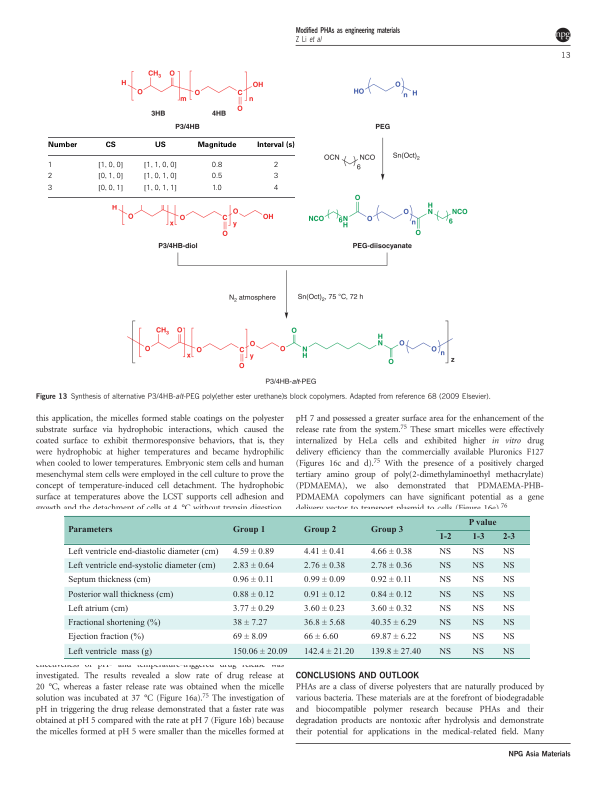borderless: (63, 514, 530, 658), (47, 135, 295, 197)
cell: (66, 547, 219, 557), (66, 561, 216, 571), (66, 590, 174, 600), (66, 618, 161, 628), (66, 575, 151, 586), (66, 647, 152, 657), (66, 632, 144, 643), (66, 604, 128, 614), (232, 647, 288, 657), (370, 632, 417, 643), (303, 647, 354, 657), (370, 647, 421, 657), (370, 618, 417, 628), (232, 575, 274, 586), (303, 575, 345, 586), (370, 575, 412, 586), (67, 526, 113, 536), (232, 547, 274, 557), (303, 547, 345, 557), (370, 547, 412, 557), (232, 561, 274, 571), (303, 561, 345, 571), (370, 561, 412, 571), (232, 590, 274, 600), (303, 590, 345, 600), (370, 590, 412, 600), (232, 604, 274, 614), (303, 604, 345, 614), (370, 604, 412, 614), (303, 618, 345, 628), (232, 632, 268, 643), (303, 632, 339, 643), (196, 141, 237, 150), (232, 618, 268, 628), (256, 141, 295, 150), (369, 526, 404, 536), (232, 526, 266, 536), (303, 526, 337, 536), (142, 160, 177, 169), (142, 183, 177, 192), (467, 519, 497, 529), (46, 141, 78, 150), (142, 172, 177, 180), (97, 160, 124, 169), (97, 183, 124, 192), (97, 172, 124, 180), (438, 575, 452, 586), (471, 575, 485, 586), (438, 632, 452, 643), (471, 632, 485, 643), (502, 575, 515, 586), (502, 632, 515, 643), (438, 533, 452, 543), (471, 533, 485, 543), (501, 533, 515, 543), (438, 547, 452, 557), (471, 547, 485, 557), (438, 561, 452, 571), (471, 561, 485, 571), (438, 590, 452, 600), (471, 590, 485, 600), (438, 604, 452, 614), (471, 604, 485, 614), (438, 618, 452, 628), (471, 618, 485, 628), (438, 647, 452, 657), (471, 647, 485, 657), (502, 547, 515, 557), (502, 561, 515, 571), (502, 590, 515, 600), (502, 604, 515, 614), (502, 618, 515, 628), (502, 647, 515, 657), (153, 141, 166, 150), (104, 141, 116, 150), (210, 160, 223, 168), (210, 172, 223, 179), (211, 183, 222, 191), (46, 160, 53, 168), (272, 160, 278, 168), (47, 183, 53, 191), (272, 183, 278, 191), (47, 172, 53, 179), (272, 172, 278, 179)
